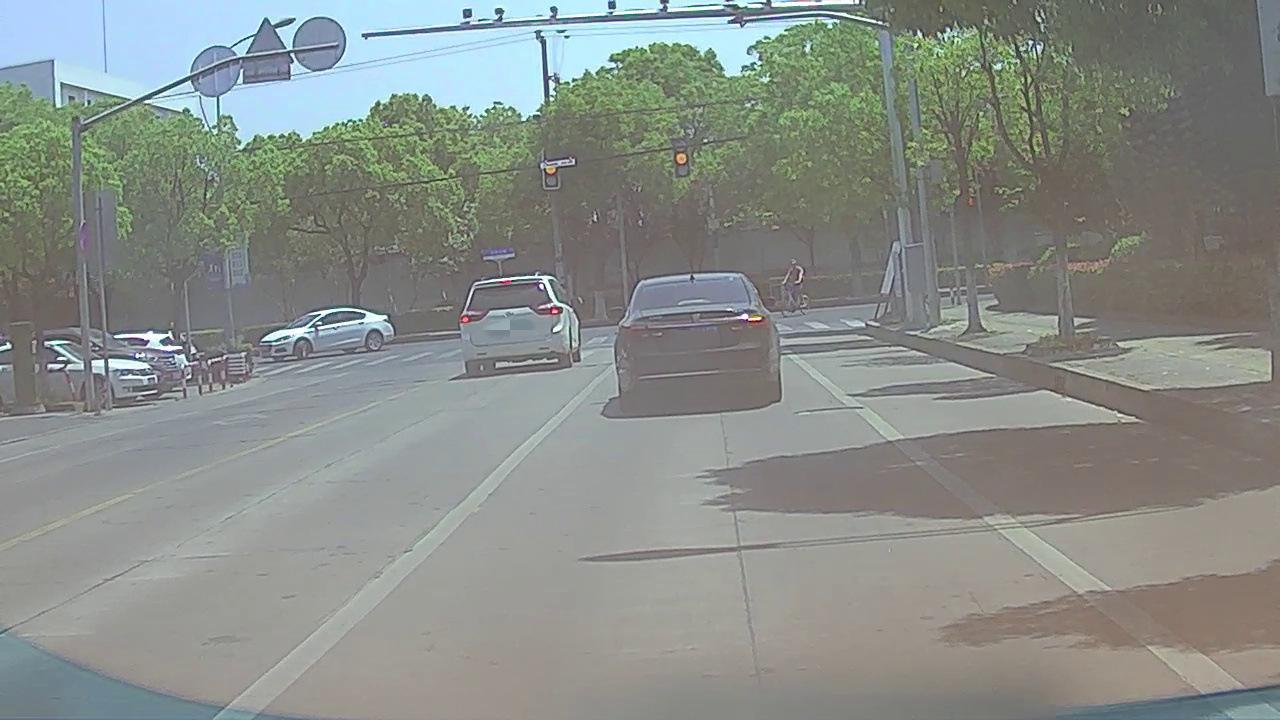traffic_light: (544, 148, 560, 187), (674, 139, 688, 174)
